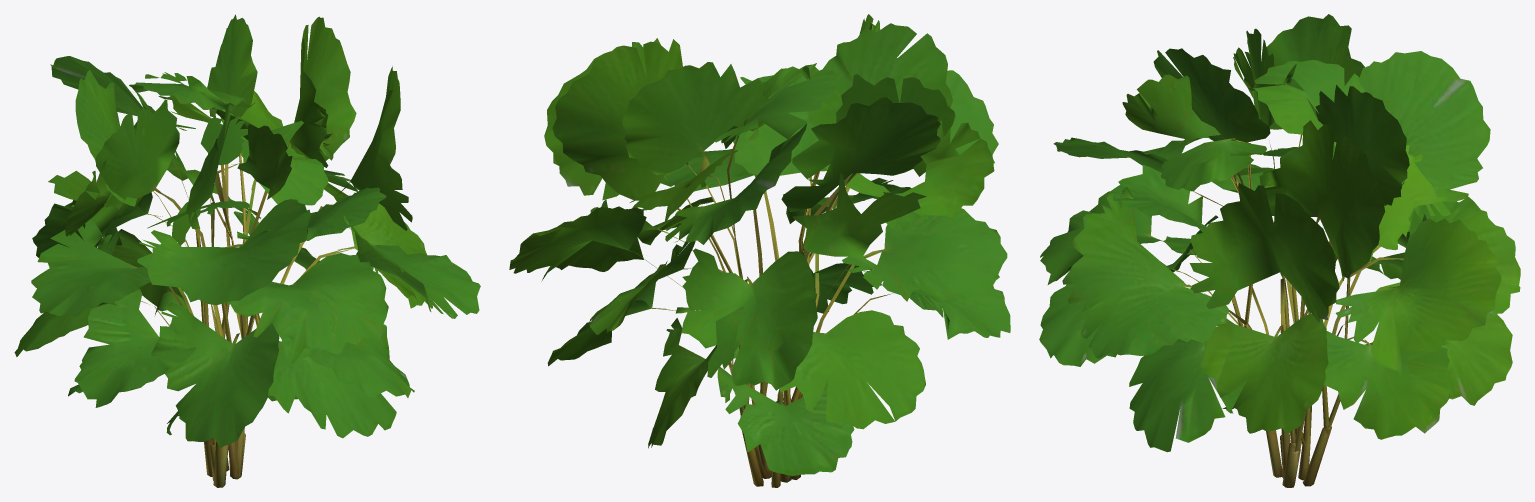
The model's file is fanpalmshrub.full.glb.
The picture shows the model from 3 angles, left to right: view 1: azimuth 30°, elevation 25°; view 2: azimuth 150°, elevation 25°; view 3: azimuth 270°, elevation 25°; orthographic projection. The views are drawn at different scales.
Parts seen in each view (by area): view 1: model; view 2: model; view 3: model.
Part boxes in pixels (box(x1,y1,x2,y2)): model: box(14, 14, 480, 487); model: box(509, 14, 1010, 487); model: box(1039, 14, 1520, 487).
Bounding box in the file's own units: 0.9556 × 0.9419 × 0.9995.
Materials: 2 (2 with a texture image).
